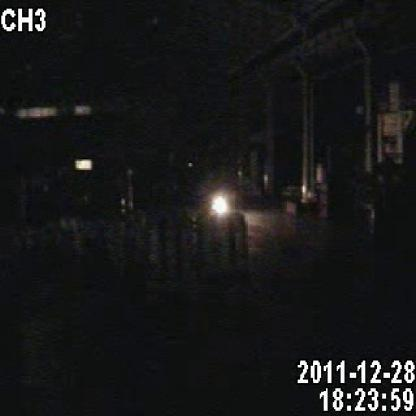fire: (206, 180, 238, 231)
